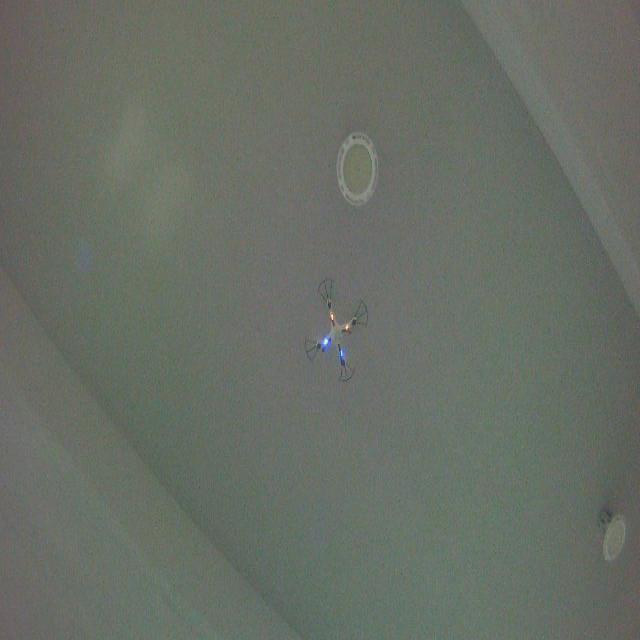drone: (302, 274, 370, 386)
